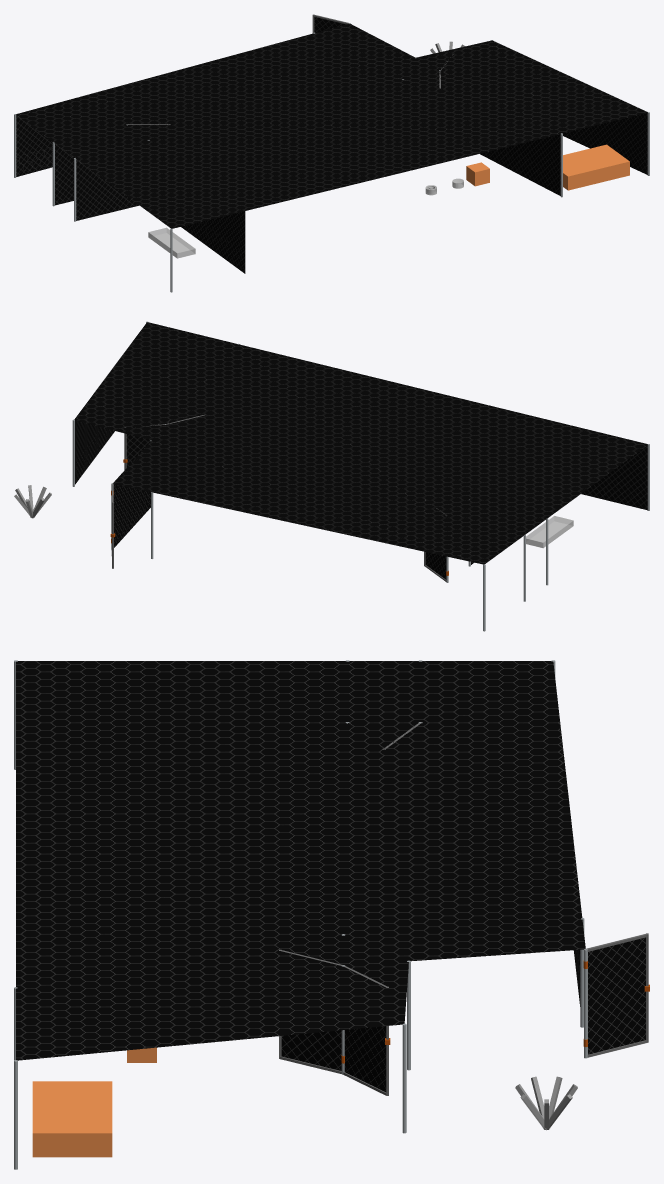
The model's file is poi01_gallinero1_preview.glb.
3 views of the same model, one above another, from view 1: azimuth 30°, elevation 25°; view 2: azimuth 150°, elevation 25°; view 3: azimuth 270°, elevation 25° (orthographic). The views are drawn at different scales.
Visible parts, largest first — view 1: cubierta_malla_gallinero, malla_ciclonica_cercos_h1_8, nido_N1_improvisado_tablas, objeto_sin_nombre_rect_pollos, nido_N2_improvisado_tablas; view 2: cubierta_malla_gallinero, malla_ciclonica_cercos_h1_8, objeto_sin_nombre_rect_pollos, puerta_P3, agave_indicativo, puerta_P2; view 3: cubierta_malla_gallinero, puerta_P1, nido_N1_improvisado_tablas, puerta_P3, puerta_P4, agave_indicativo.
Boxes of the visible parts, <box> form: cubierta_malla_gallinero: <box>16,24,647,228</box>; malla_ciclonica_cercos_h1_8: <box>16,113,647,273</box>; nido_N1_improvisado_tablas: <box>563,144,629,190</box>; objeto_sin_nombre_rect_pollos: <box>148,227,195,258</box>; nido_N2_improvisado_tablas: <box>466,162,489,186</box>; cubierta_malla_gallinero: <box>74,322,647,564</box>; malla_ciclonica_cercos_h1_8: <box>75,420,647,564</box>; objeto_sin_nombre_rect_pollos: <box>526,516,573,548</box>; puerta_P3: <box>123,424,165,469</box>; agave_indicativo: <box>14,485,51,518</box>; puerta_P2: <box>424,500,448,581</box>; cubierta_malla_gallinero: <box>16,661,585,1060</box>; puerta_P1: <box>583,933,649,1057</box>; nido_N1_improvisado_tablas: <box>32,1081,112,1157</box>; puerta_P3: <box>341,965,390,1095</box>; puerta_P4: <box>279,949,342,1073</box>; agave_indicativo: <box>515,1076,577,1130</box>.
Size of the model in its own units: 14.32 by 1.8 by 9.59.
Materials: 9 (3 with a texture image).
